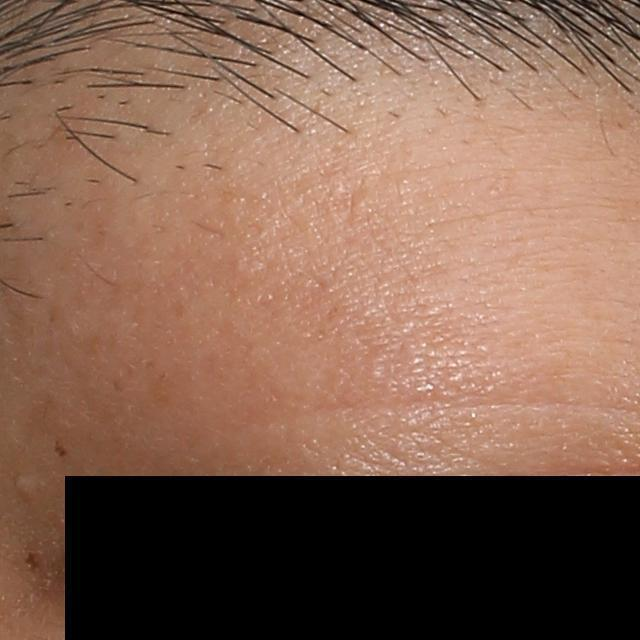comedo: (12, 469, 43, 506)
nevus: (53, 439, 69, 459)
